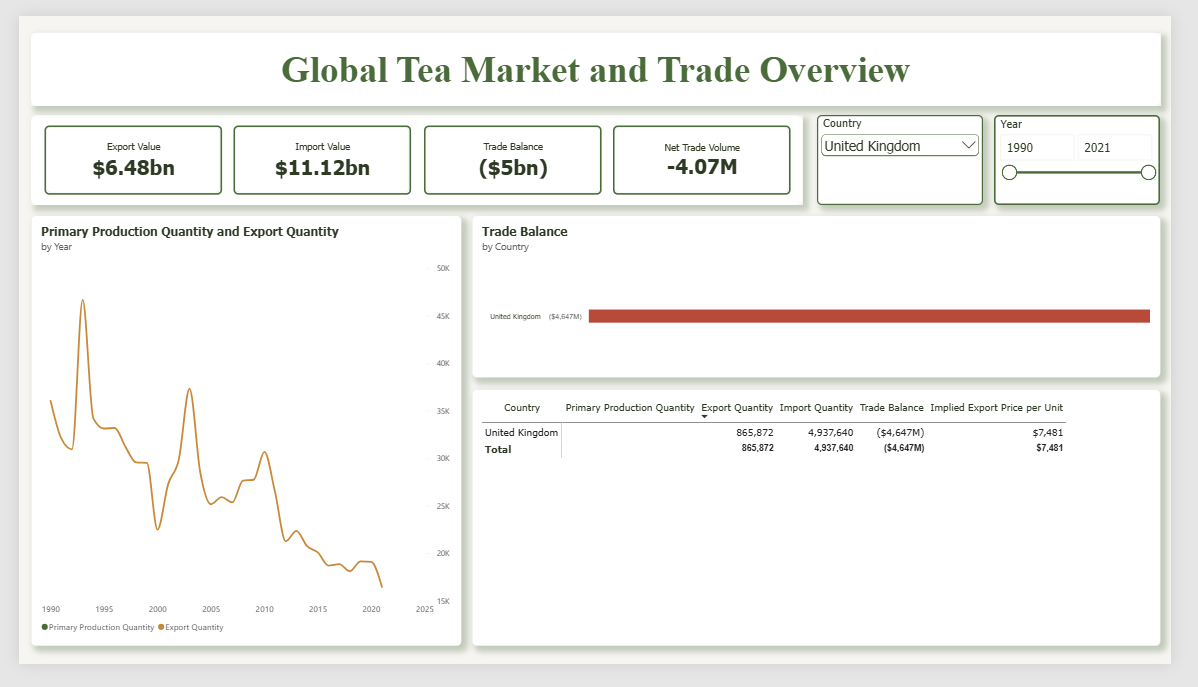

The dashboard page shown, as its layout file describes it:
{"tool":"powerbi","page":{"name":"Page 1","canvas":[1920,1080],"ordinal":0},"visuals":[{"type":"shape","box":[19.1,164.6,1286,150.3],"z":0},{"type":"lineChart","fields":{"Category":["Dim_Date.Year"],"Y":["_Measures.Primary Production Quantity"],"Y2":["_Measures.Export Quantity"]},"box":[20,332.5,717.5,717.5],"z":1000},{"type":"clusteredBarChart","fields":{"Category":["Dim_Country.Country"],"Y":["_Measures.Trade Balance"]},"box":[755,332.5,1147.5,270],"z":2000},{"type":"pivotTable","fields":{"Rows":["Dim_Country.Country"],"Values":["_Measures.Primary Production Quantity","_Measures.Export Quantity","_Measures.Import Quantity","_Measures.Trade Balance","_Measures.Implied Export Price per Unit"]},"box":[755,622.5,1147.5,427.5],"z":3000},{"type":"slicer","fields":{"Values":["Dim_Country.Country"]},"box":[1329,164.6,276.8,150.3],"z":4000},{"type":"slicer","fields":{"Values":["Dim_Date.Year"]},"box":[1624.8,164.6,276.8,150.3],"z":5000},{"type":"shape","box":[20,27.5,1882.5,122.5],"z":6000},{"type":"cardVisual","fields":{"Data":["_Measures.Export Value"]},"box":[42.5,182.5,296.2,115],"z":7000},{"type":"cardVisual","fields":{"Data":["_Measures.Import Value"]},"box":[356.2,182.5,296.2,115],"z":8000},{"type":"cardVisual","fields":{"Data":["_Measures.Trade Balance"]},"box":[673.8,182.5,296.2,115],"z":9000},{"type":"cardVisual","fields":{"Data":["_Measures.Net Trade Volume"]},"box":[990,182.5,296.2,115],"z":10000}]}

Visuals, with their boxes in screenshot pixels (x1, y1, x2, y2), scaled from the page's 1920x1080 canvas onto the 1198x687 screenshot:
shape: {"x1": 12, "y1": 105, "x2": 814, "y2": 200}
lineChart - Dim_Date.Year x _Measures.Primary Production Quantity: {"x1": 12, "y1": 212, "x2": 460, "y2": 668}
clusteredBarChart - Dim_Country.Country x _Measures.Trade Balance: {"x1": 471, "y1": 212, "x2": 1187, "y2": 383}
pivotTable - Dim_Country.Country x _Measures.Primary Production Quantity: {"x1": 471, "y1": 396, "x2": 1187, "y2": 668}
slicer - Dim_Country.Country: {"x1": 829, "y1": 105, "x2": 1002, "y2": 200}
slicer - Dim_Date.Year: {"x1": 1014, "y1": 105, "x2": 1187, "y2": 200}
shape: {"x1": 12, "y1": 17, "x2": 1187, "y2": 95}
cardVisual - _Measures.Export Value: {"x1": 27, "y1": 116, "x2": 211, "y2": 189}
cardVisual - _Measures.Import Value: {"x1": 222, "y1": 116, "x2": 407, "y2": 189}
cardVisual - _Measures.Trade Balance: {"x1": 420, "y1": 116, "x2": 605, "y2": 189}
cardVisual - _Measures.Net Trade Volume: {"x1": 618, "y1": 116, "x2": 803, "y2": 189}
